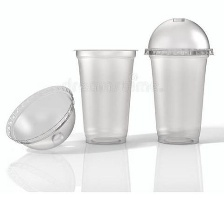glass: (141, 8, 220, 150), (63, 42, 148, 145)
